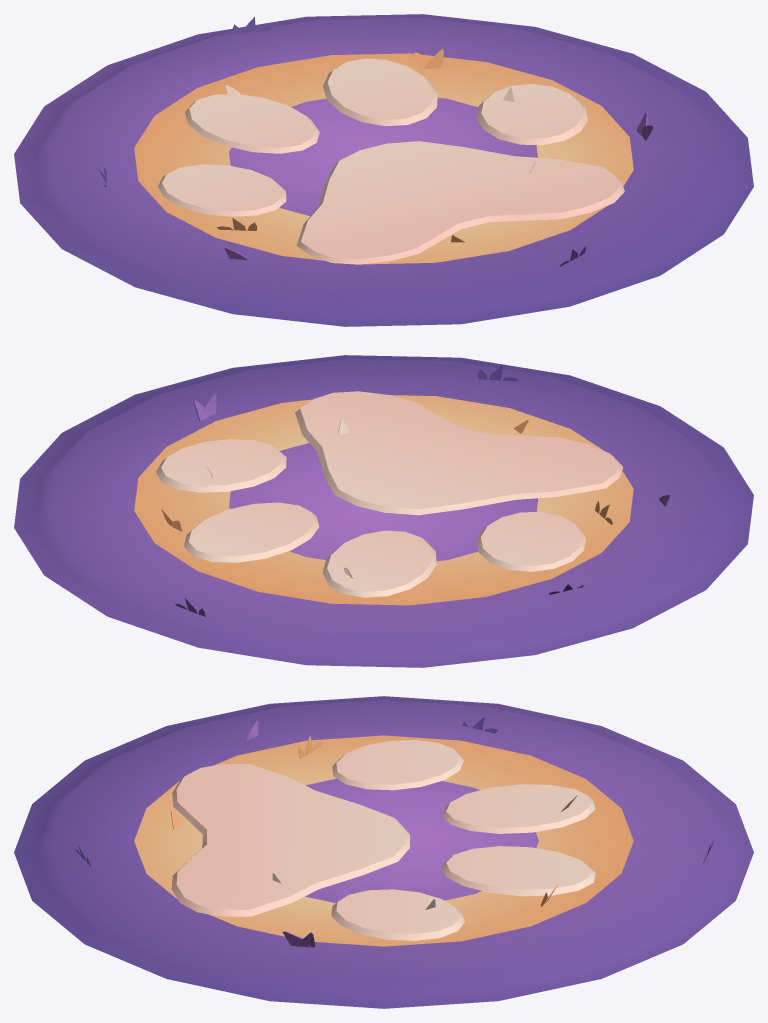
File: Rug.fbx
The picture shows the model from 3 angles, top to bottom: view 1: azimuth 30°, elevation 25°; view 2: azimuth 150°, elevation 25°; view 3: azimuth 270°, elevation 25°; orthographic projection.
Parts seen in each view (by area): view 1: Cafe1_Rug_Rug; view 2: Cafe1_Rug_Rug; view 3: Cafe1_Rug_Rug.
Boxes of the visible parts, box(x1,y1,x2,y2) form: Cafe1_Rug_Rug: box(14, 14, 753, 326); Cafe1_Rug_Rug: box(14, 355, 753, 667); Cafe1_Rug_Rug: box(14, 696, 753, 1008).
Size of the model in its own units: 707 by 37.22 by 707.
